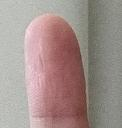Fingerprints: (25, 15, 85, 114)
